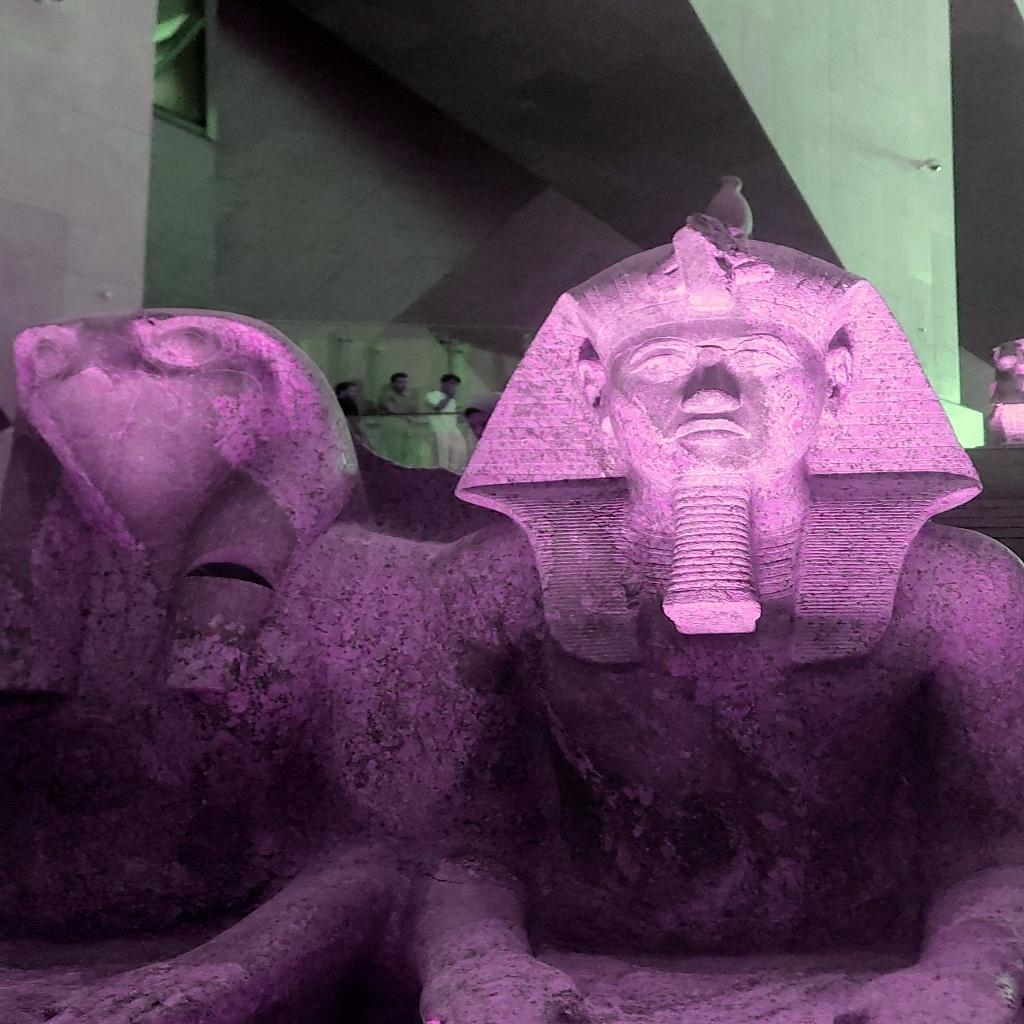Statue of Amenhotep III and God Re-Horakhty: (0, 198, 1007, 866)
